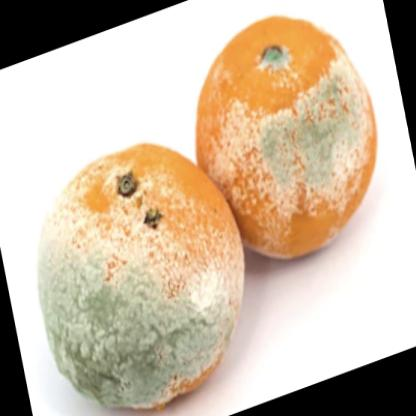rotten: (40, 146, 244, 408), (196, 16, 377, 260)
